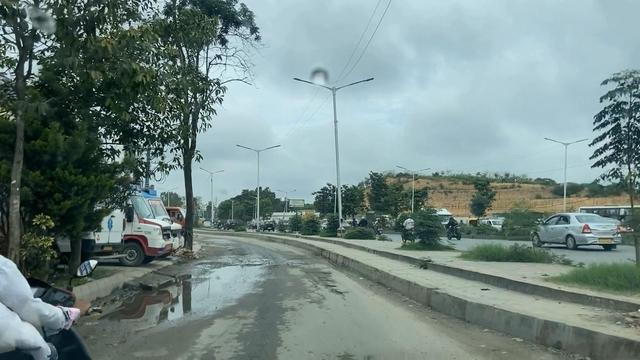RoadDamages: (306, 267, 347, 310), (212, 243, 265, 272), (283, 252, 307, 266)
